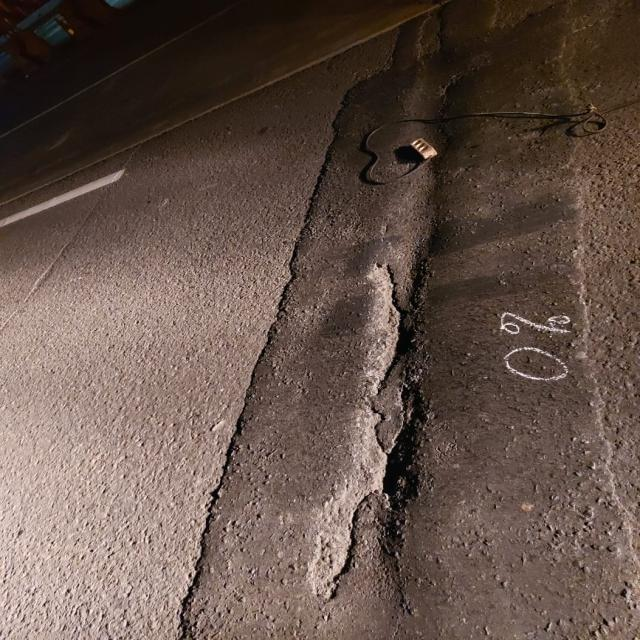Buraco: (300, 258, 432, 606)
